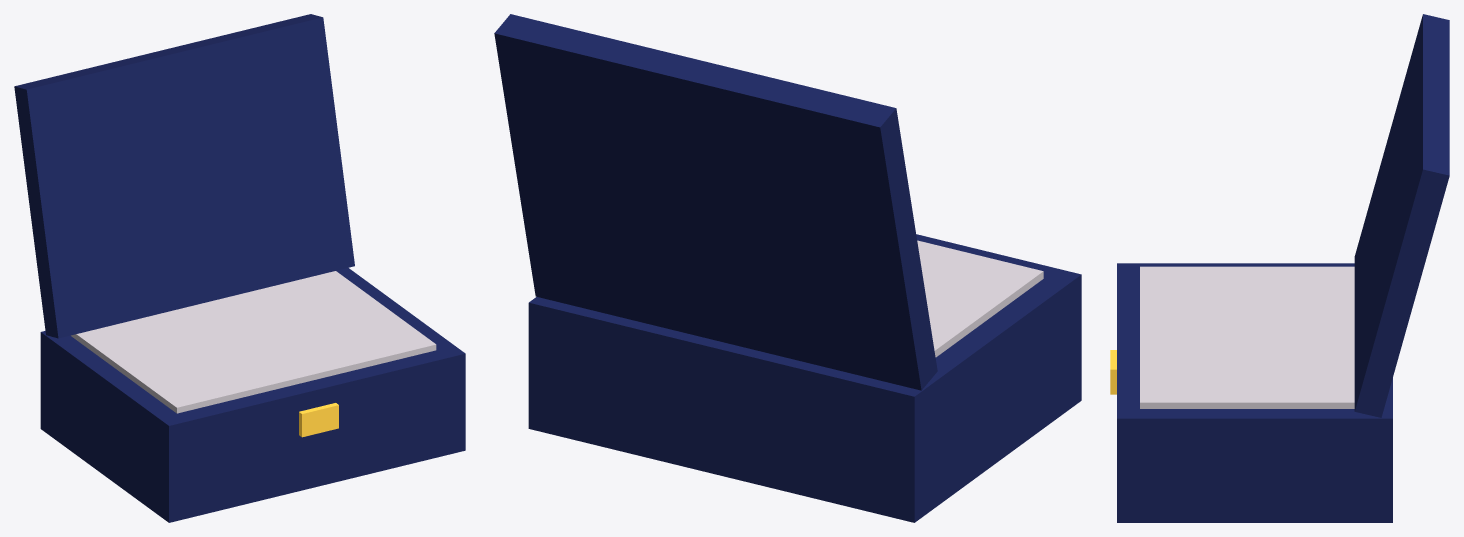
Rendered from necklace_case.glb.
3 renders of one model, left to right at view 1: azimuth 30°, elevation 25°; view 2: azimuth 150°, elevation 25°; view 3: azimuth 270°, elevation 25°, orthographic. The views are drawn at different scales.
Visible parts, largest first — view 1: lid_case_velvet, box_case_velvet, box_case_satin, clasp_gold; view 2: lid_case_velvet, box_case_velvet, box_case_satin; view 3: box_case_velvet, box_case_satin, lid_case_velvet.
Boxes of the visible parts, x1,y1,x2,y2 form: lid_case_velvet: (14,14,354,338); box_case_velvet: (40,268,465,522); box_case_satin: (71,271,436,413); clasp_gold: (299,403,338,437); lid_case_velvet: (494,14,937,390); box_case_velvet: (528,234,1081,522); box_case_satin: (917,240,1043,357); box_case_velvet: (1117,263,1392,522); box_case_satin: (1140,266,1354,408); lid_case_velvet: (1354,14,1449,417).
Size of the model in its own units: 0.16 by 0.1696 by 0.1477.
